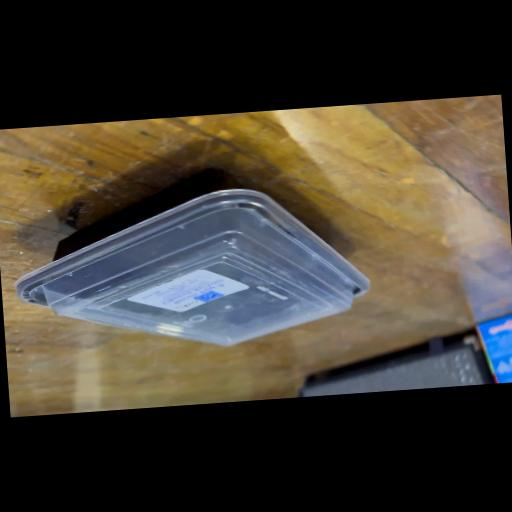rigid_plastic_container: (6, 154, 376, 364)
